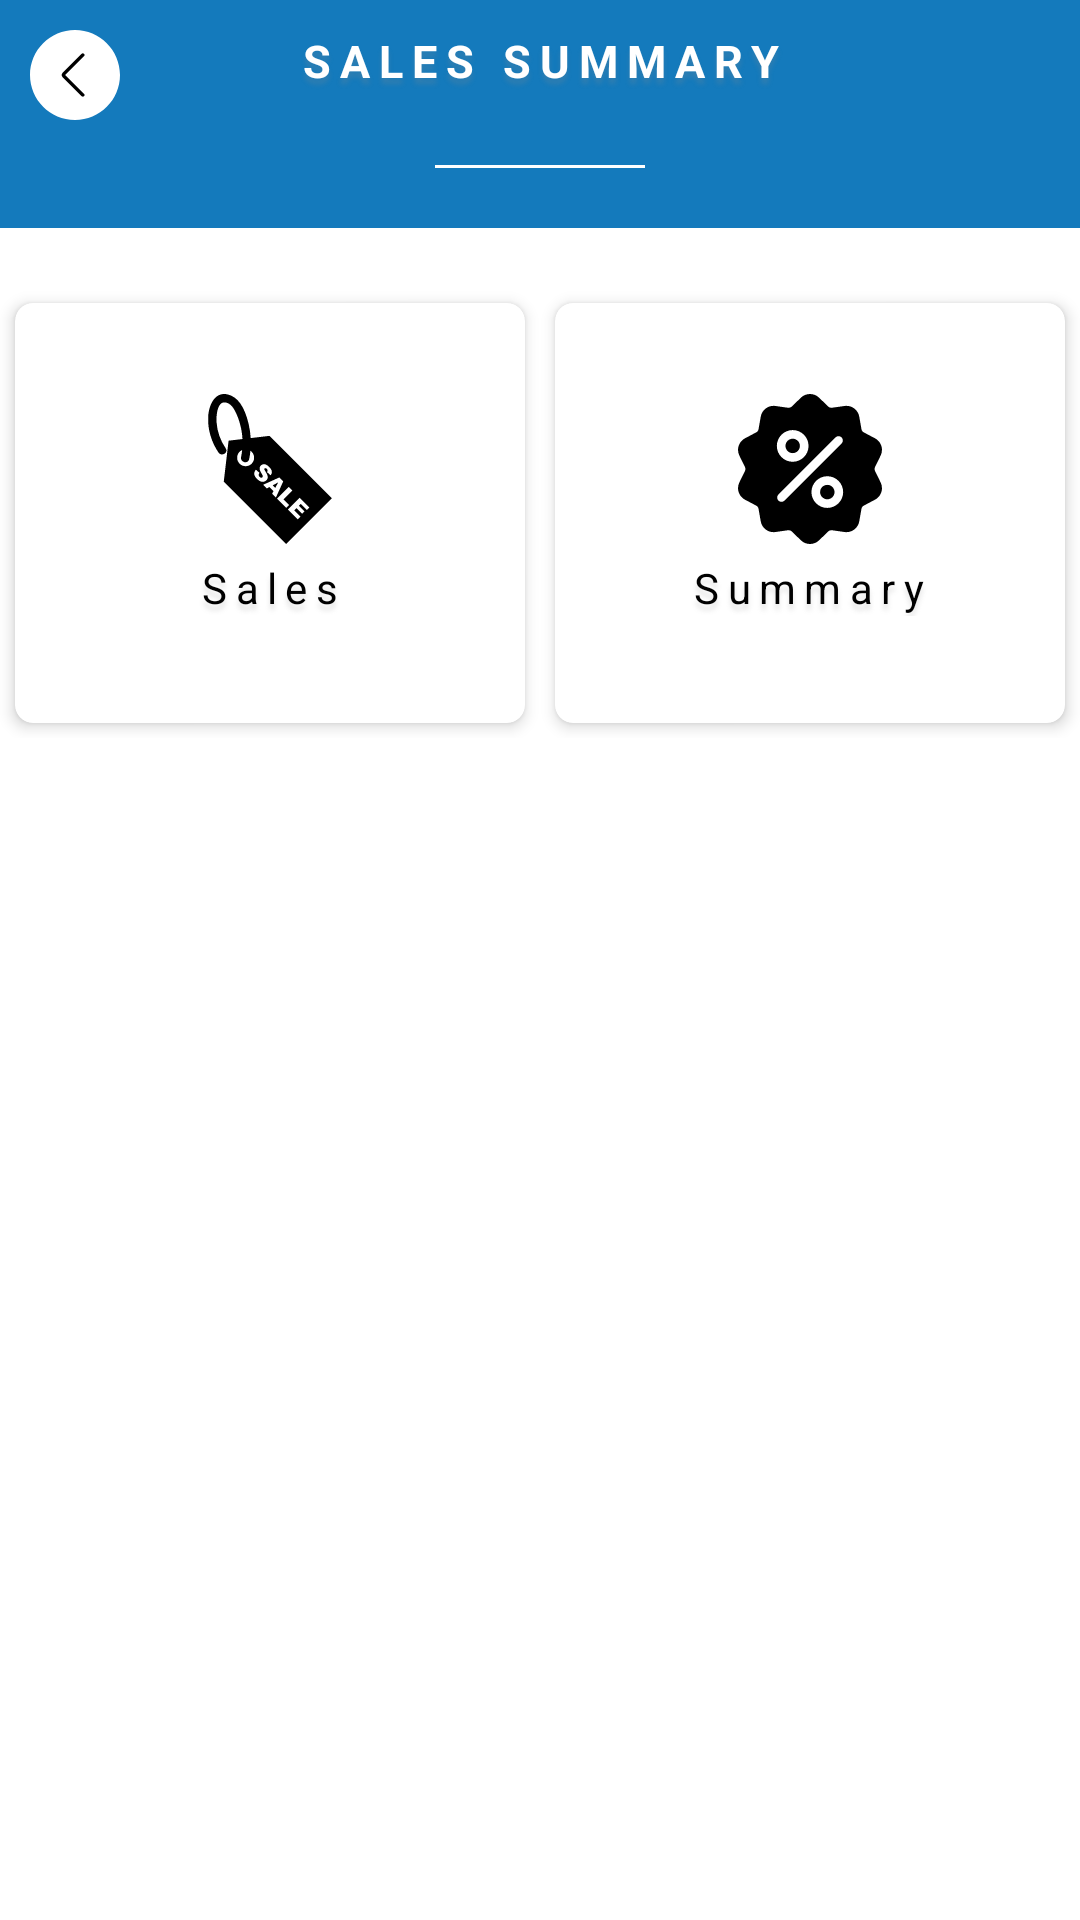

Screen size 1080*1920. Icon name, then its box in pixels as (x1, y1, x2, y2):
discount: (738, 394, 882, 544)
left arrow: (30, 30, 120, 120)
